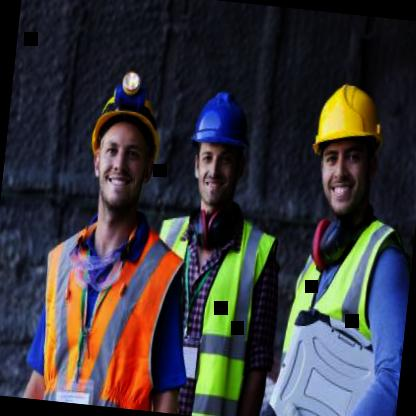helmet: (74, 71, 174, 233), (297, 65, 394, 227), (176, 76, 266, 224)
